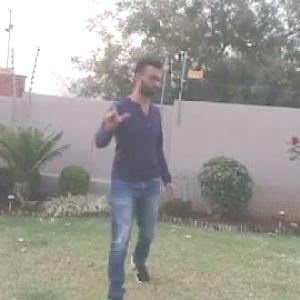land_hand: (100, 89, 132, 127)
